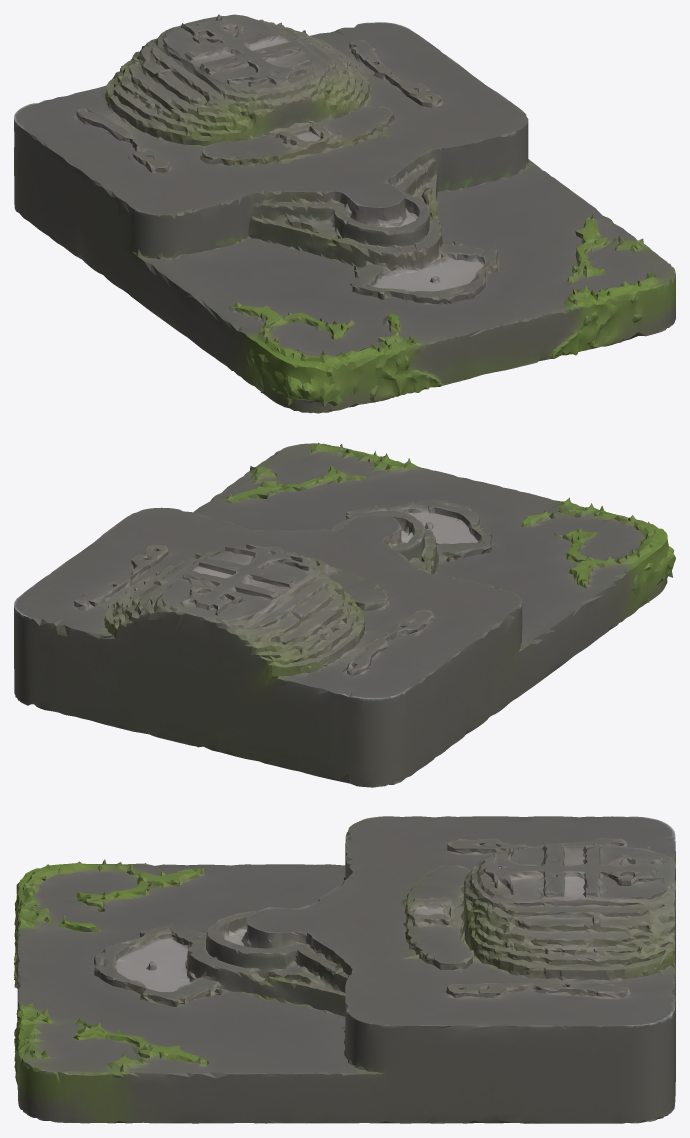
Rendered from rodin_Lab_RuneStele_raw.glb.
3 views of the same model, one above another, from view 1: azimuth 30°, elevation 25°; view 2: azimuth 150°, elevation 25°; view 3: azimuth 270°, elevation 25° (orthographic). The views are drawn at different scales.
Parts seen in each view (by area): view 1: model; view 2: model; view 3: model.
Part boxes in pixels (<box>): model: <box>14,14,675,413</box>; model: <box>14,442,675,787</box>; model: <box>14,816,675,1123</box>.
Bounding box in the file's own units: 1.42 × 0.4777 × 1.88.
Materials: 1 (1 with a texture image).
